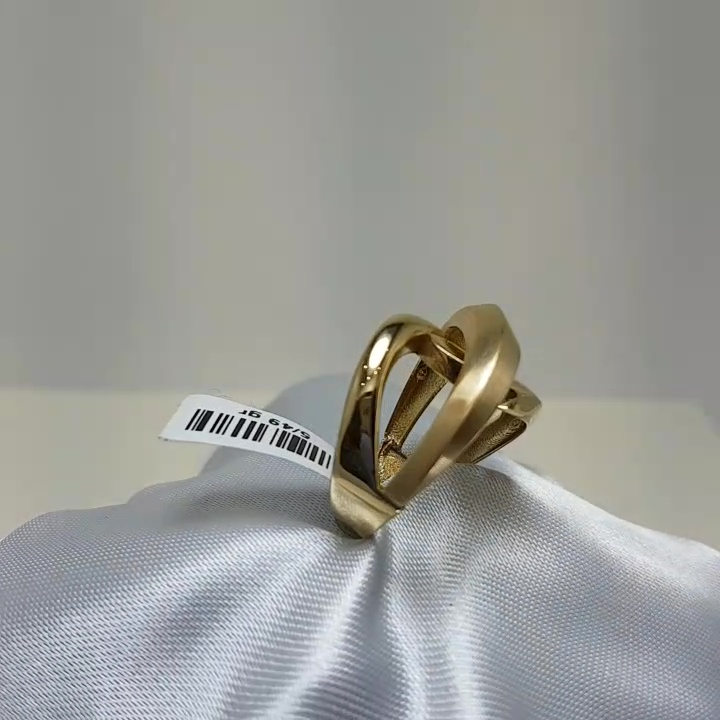Ring 3: (287, 275, 560, 562)
